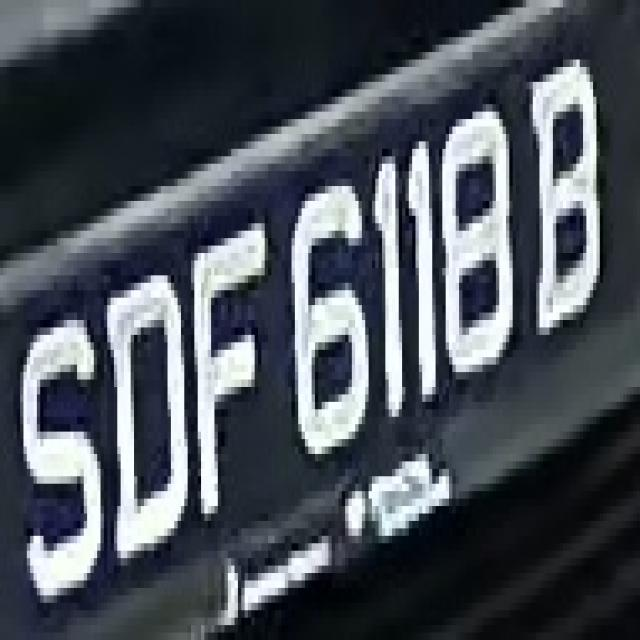1: (399, 90, 449, 462), (358, 119, 409, 439)
6: (278, 156, 369, 462)
8: (442, 74, 516, 380)
B: (523, 52, 613, 350)
D: (97, 238, 191, 543)
F: (181, 208, 261, 536)
S: (16, 283, 110, 580)
